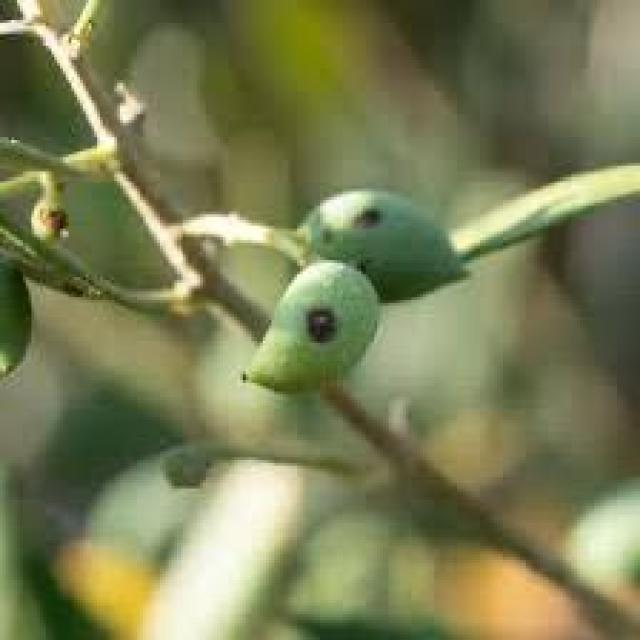Anthracnose: (297, 191, 466, 300), (240, 258, 374, 392)
